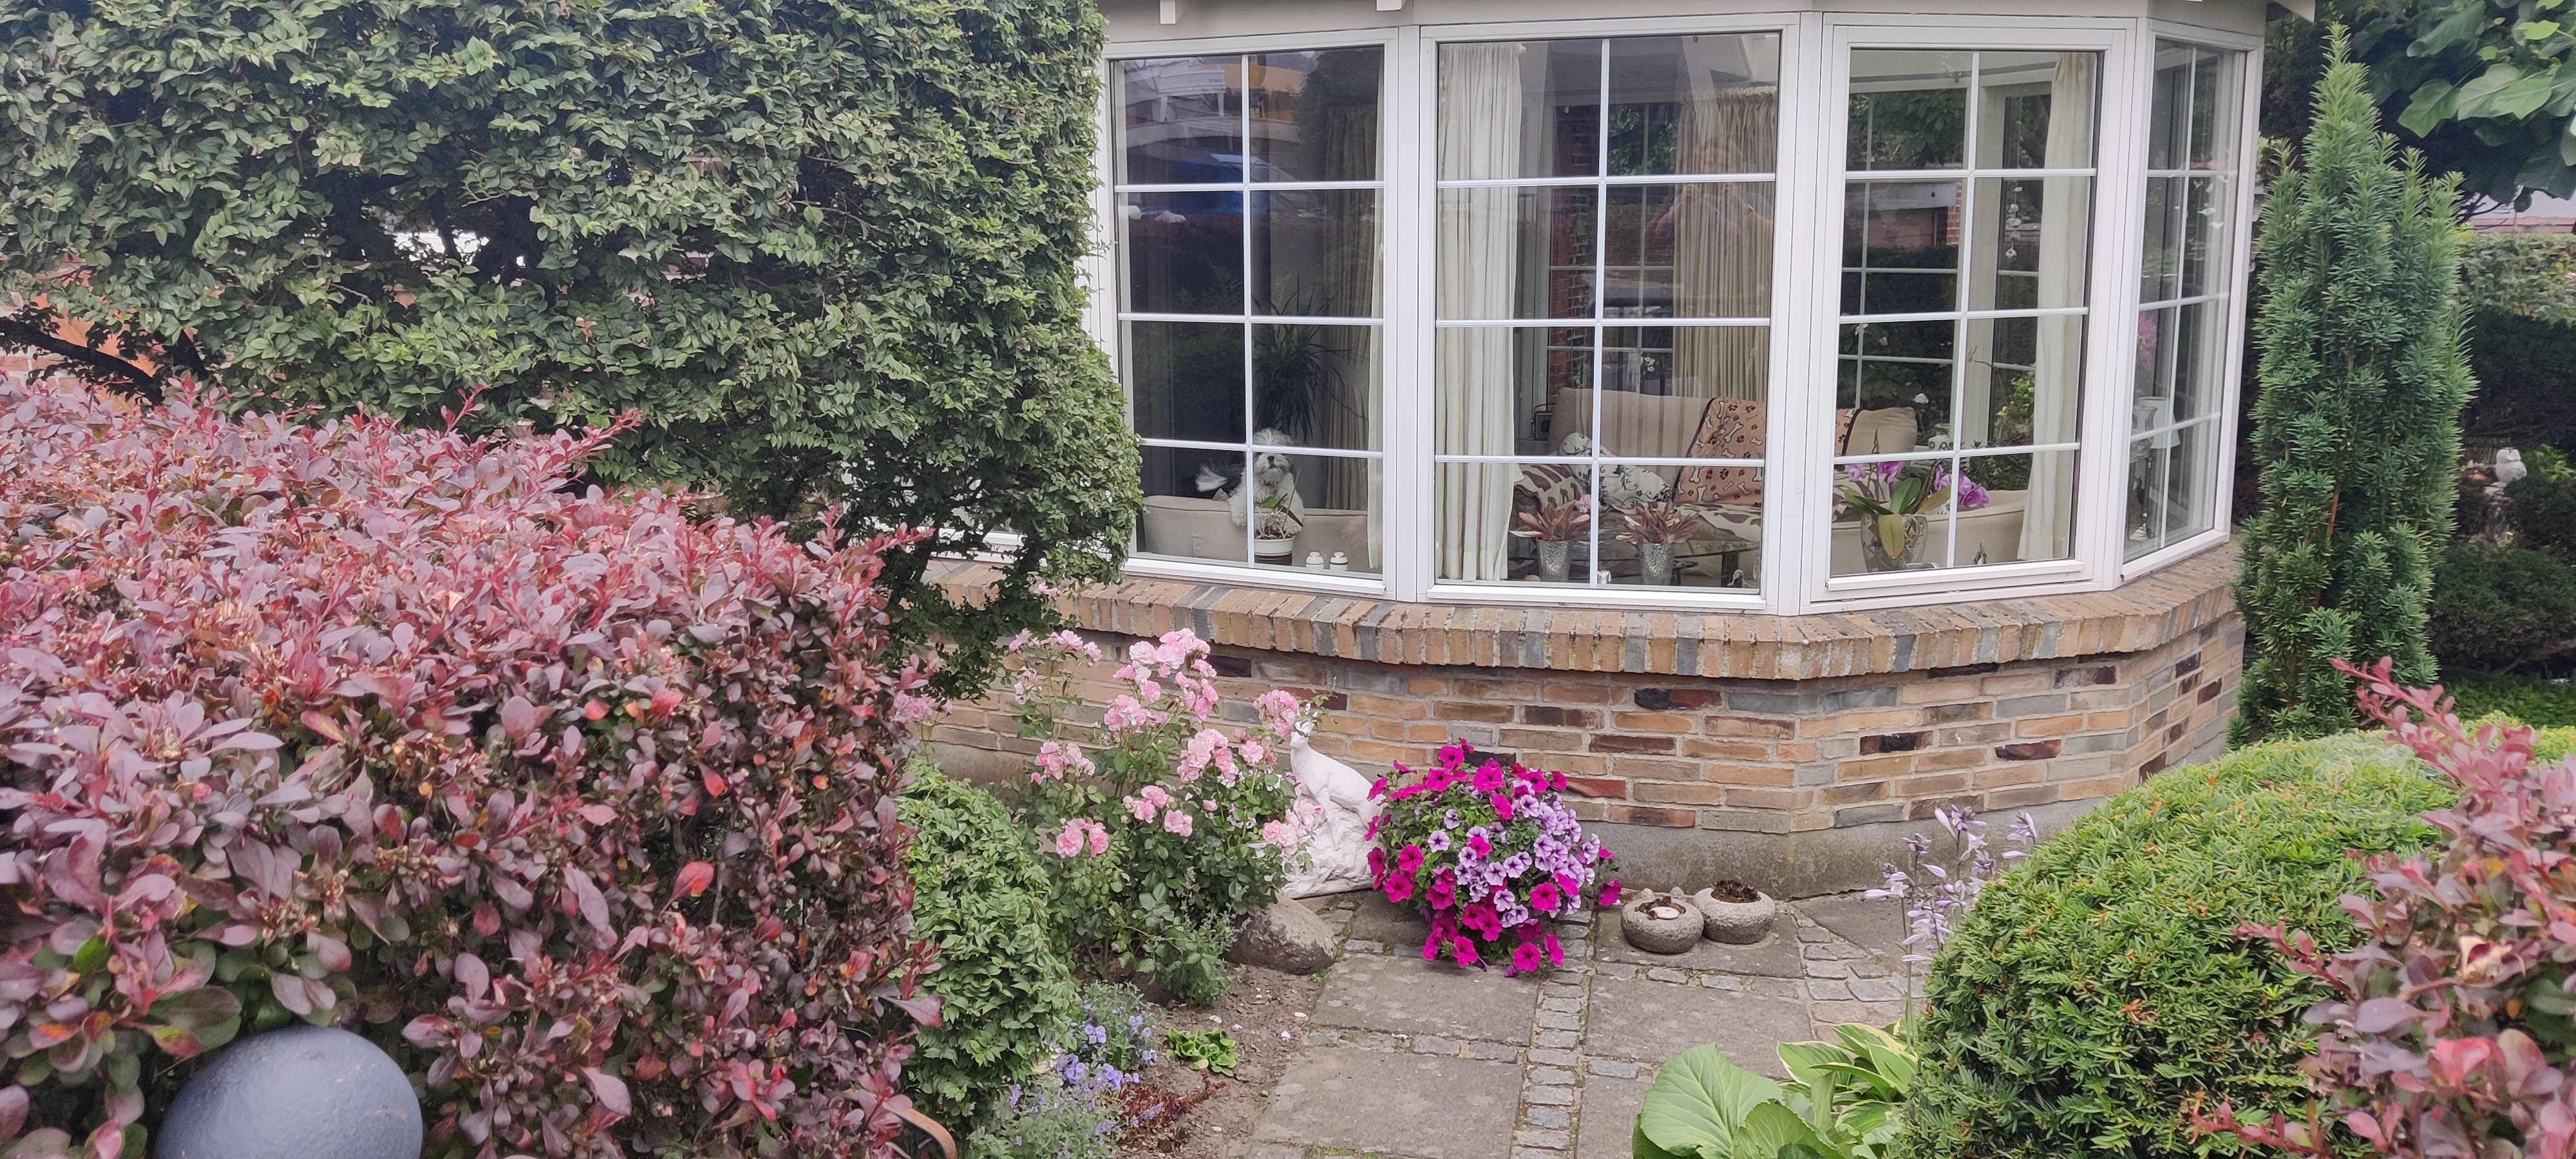Dog: (1193, 422, 1308, 529)
